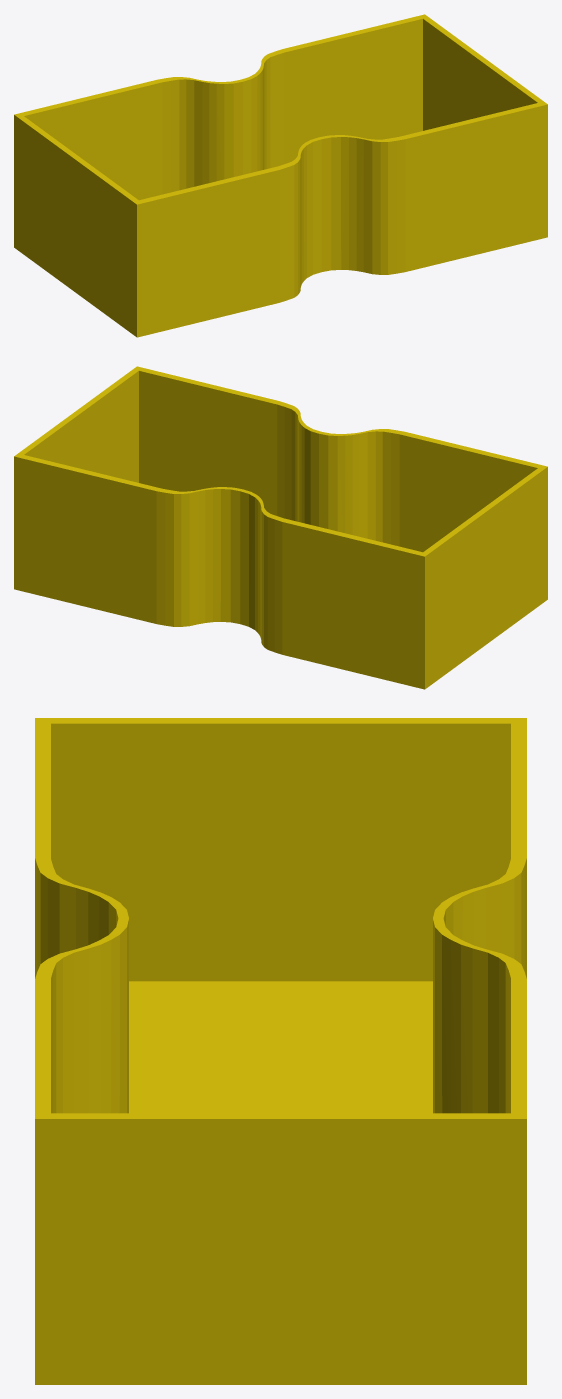
The model's file is gopuram_cup-optimized.glb.
3 renders of one model, top to bottom at view 1: azimuth 30°, elevation 25°; view 2: azimuth 150°, elevation 25°; view 3: azimuth 270°, elevation 25°, orthographic. The views are drawn at different scales.
Visible parts, largest first — view 1: small_gopuram.003; view 2: small_gopuram.003; view 3: small_gopuram.003.
Part boxes in pixels (x1,y1,x2,y2): small_gopuram.003: (14, 14, 547, 337); small_gopuram.003: (14, 366, 547, 689); small_gopuram.003: (35, 718, 526, 1384).
Size of the model in its own units: 41.51 by 12.84 by 21.53.
